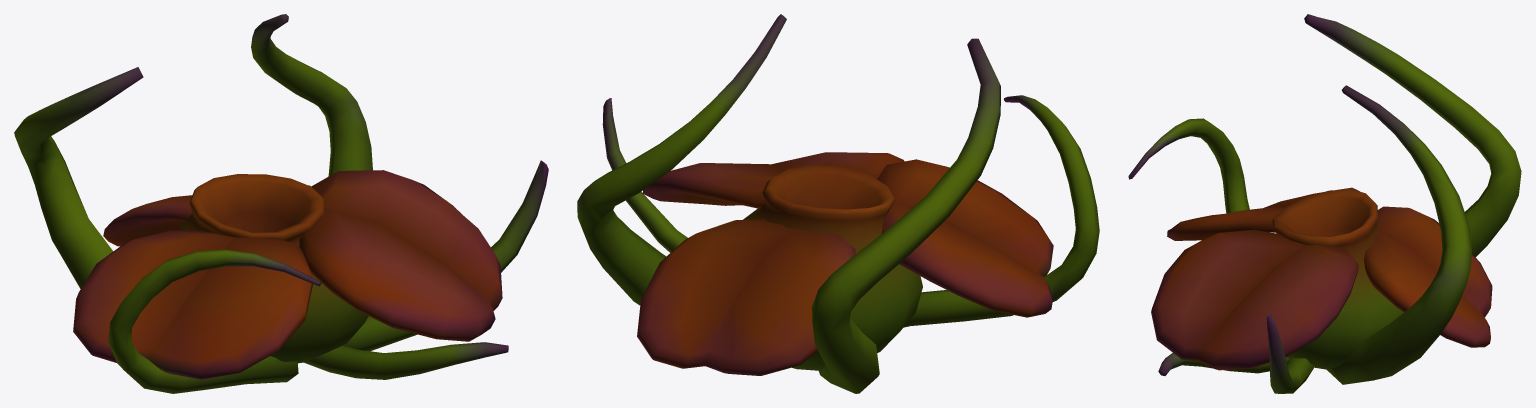
Rendered from Plant_18.fbx.
The picture shows the model from 3 angles, left to right: view 1: azimuth 30°, elevation 25°; view 2: azimuth 150°, elevation 25°; view 3: azimuth 270°, elevation 25°; orthographic projection. The views are drawn at different scales.
Parts seen in each view (by area): view 1: Plant_18; view 2: Plant_18; view 3: Plant_18.
Part boxes in pixels (x1,y1,x2,y2): Plant_18: (14,14,548,393); Plant_18: (577,14,1099,393); Plant_18: (1128,14,1521,393).
Bounding box in the file's own units: 7.27 × 5.23 × 6.38.
